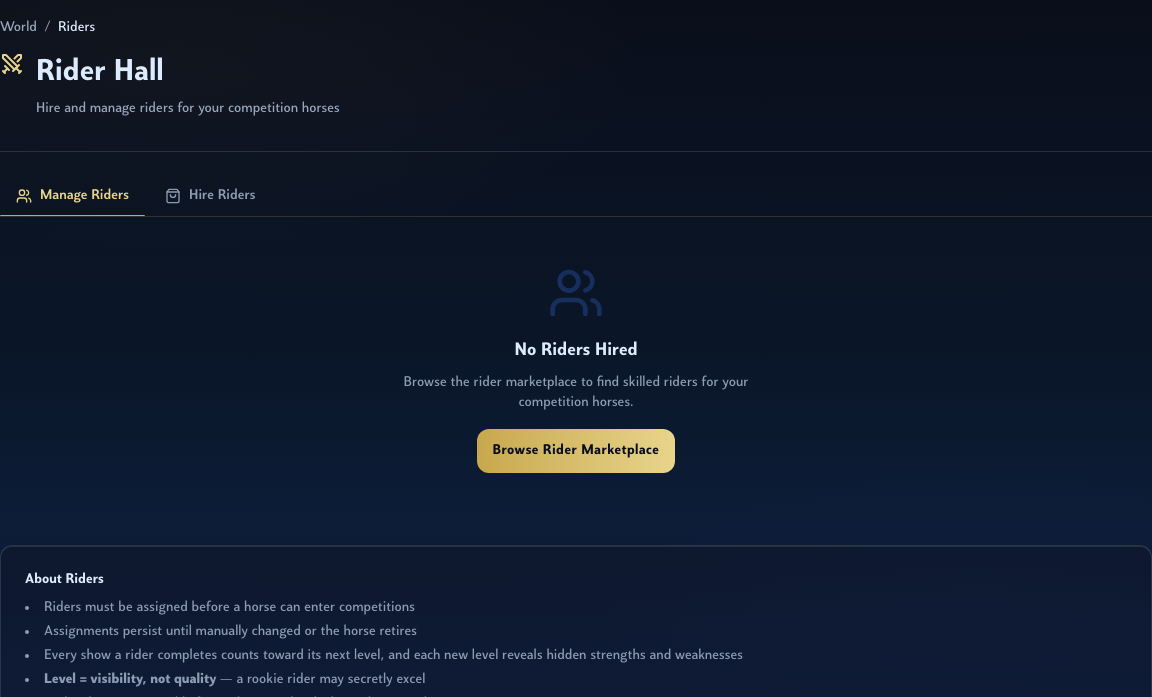
RidersPage — manage/hire tabs + cross-tab jump (Equoria-o5hub.30) › manually clicking the Hire tab shows the rider marketplace list
Expected: the element with test id "no-riders-state" is shown, [404,265,748,473]
Click the tab with test id "hire-tab" at (210, 196), box [149,176,272,216]
(page scrolled)
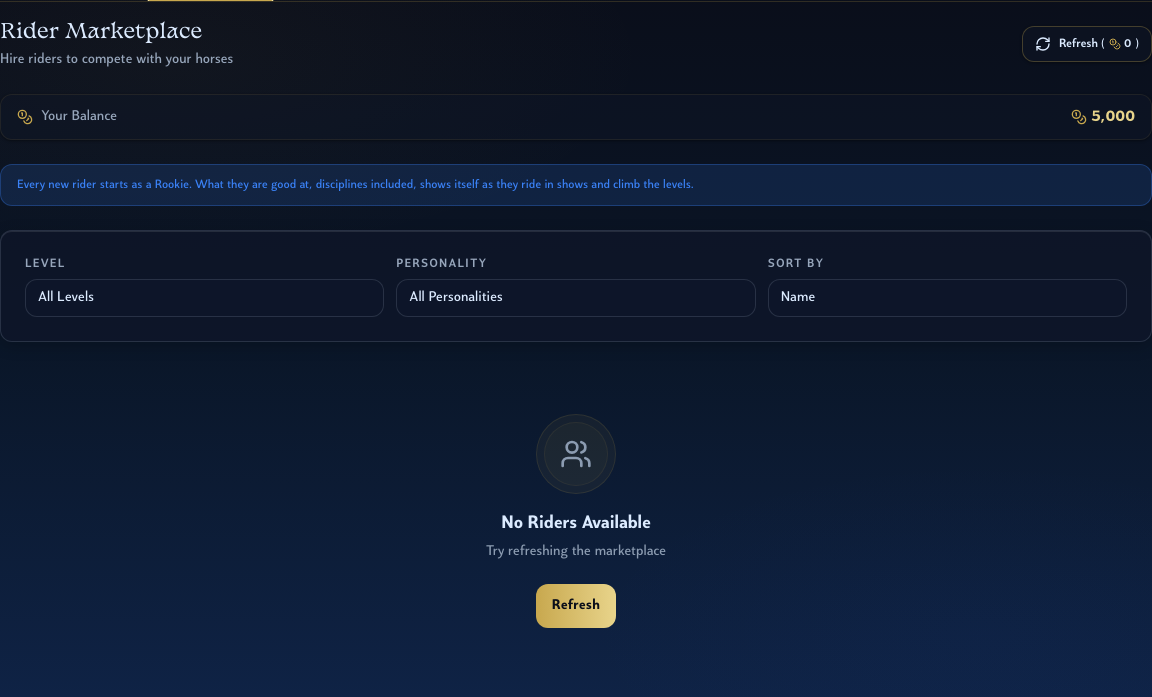
Expected: the element with test id "rider-list" is shown
